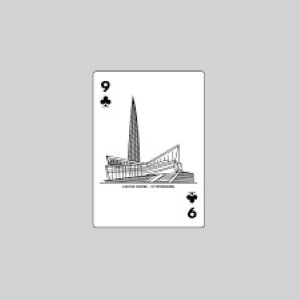NineOfClubs: (91, 66, 209, 232)
